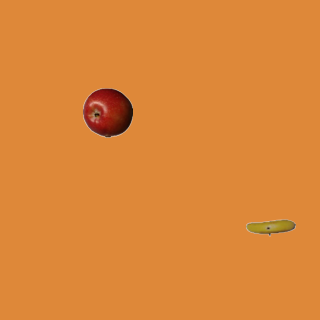Apple Braeburn: (82, 87, 132, 137)
Banana: (245, 202, 295, 252)
